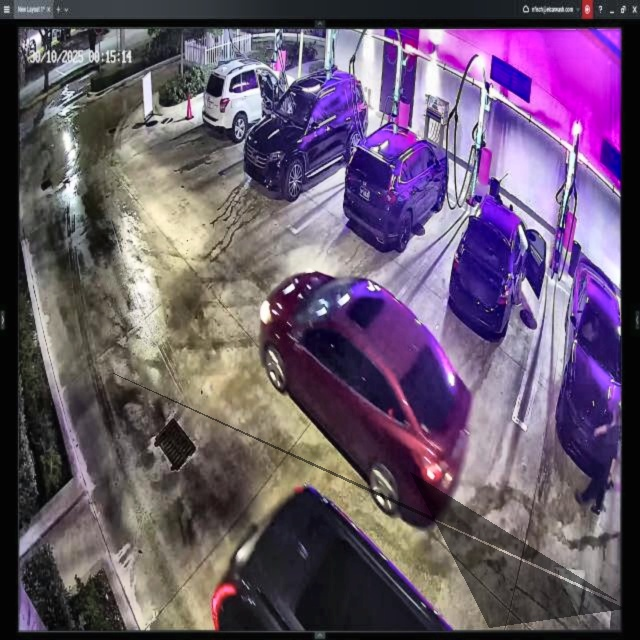Car: (255, 261, 471, 520), (248, 69, 365, 196), (337, 127, 448, 253), (460, 190, 545, 341)
